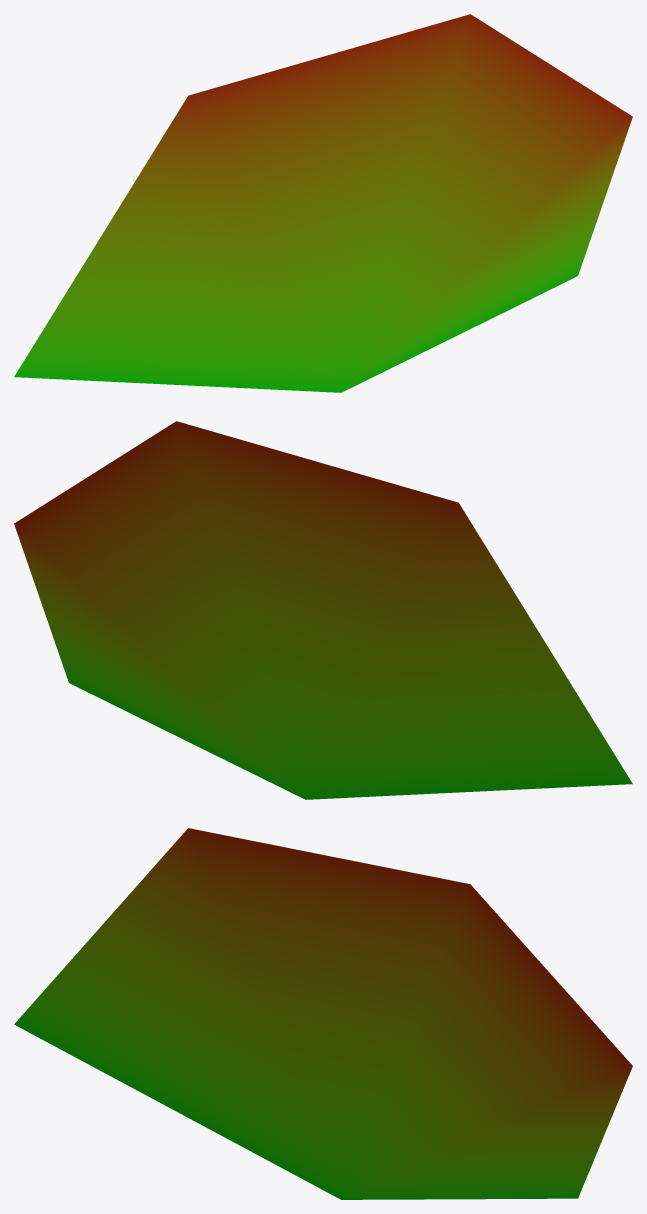
The model's file is Aloe Vera_LOD4_Var5_ve4tbbrha.fbx.
3 views of the same model, one above another, from view 1: azimuth 30°, elevation 25°; view 2: azimuth 150°, elevation 25°; view 3: azimuth 330°, elevation 25° (orthographic).
Parts seen in each view (by area): view 1: _u7zs_Var5_LOD4; view 2: _u7zs_Var5_LOD4; view 3: _u7zs_Var5_LOD4.
Boxes of the visible parts, x1,y1,x2,y2 form: _u7zs_Var5_LOD4: (14,14,632,392); _u7zs_Var5_LOD4: (14,421,632,799); _u7zs_Var5_LOD4: (14,828,632,1199).
Size of the model in its own units: 87.18 by 46.73 by 8.09e-06.
